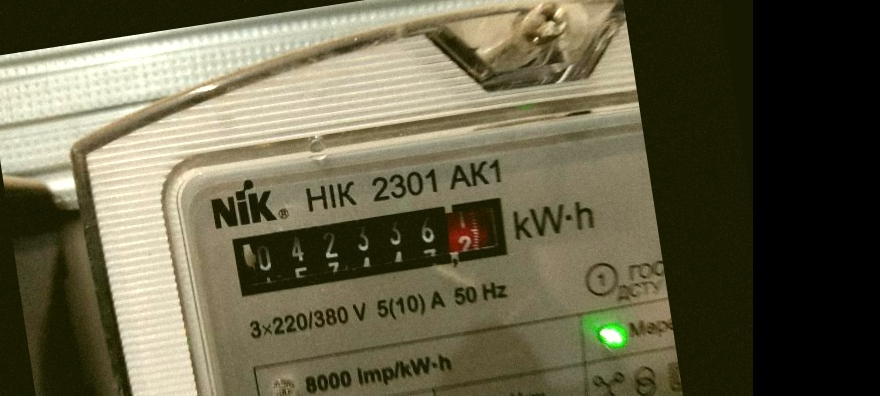0: (252, 242, 272, 272)
1: (452, 206, 467, 230)
2: (319, 228, 339, 259), (454, 232, 473, 252)
3: (382, 215, 402, 247), (350, 222, 369, 252)
4: (285, 232, 306, 263)
6: (416, 212, 437, 244)
screen: (217, 182, 522, 306)
